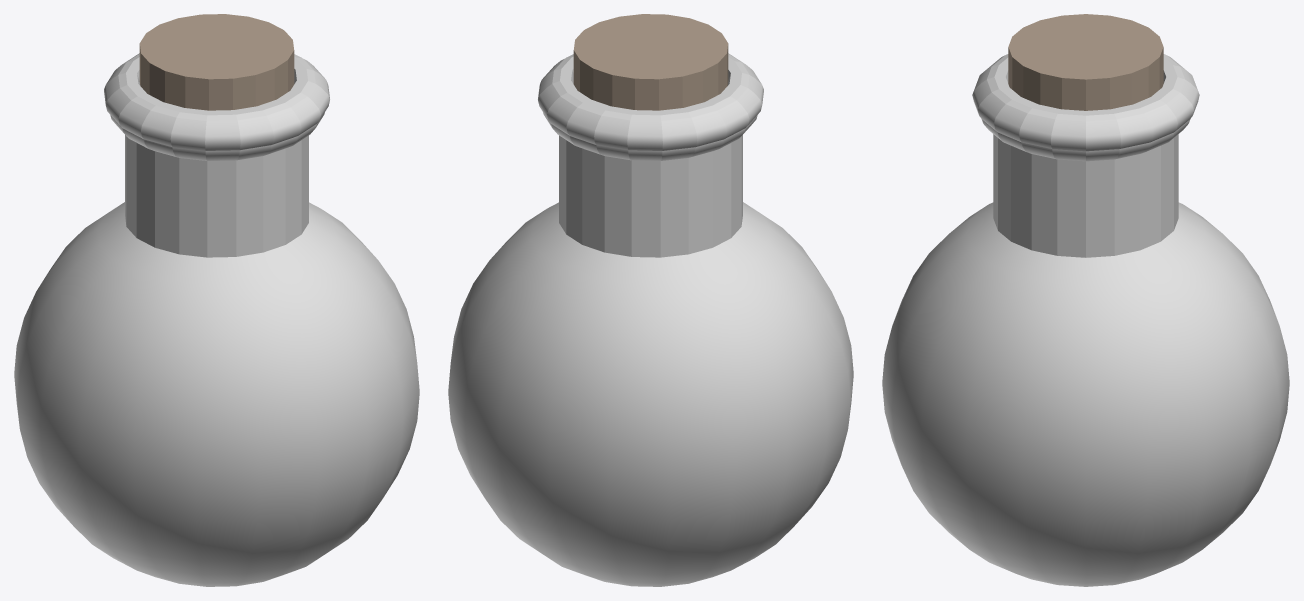
The model's file is Potion_4.fbx.
3 views of the same model, side by side, from view 1: azimuth 30°, elevation 25°; view 2: azimuth 150°, elevation 25°; view 3: azimuth 270°, elevation 25° (orthographic).
Parts seen in each view (by area): view 1: Potion4; view 2: Potion4; view 3: Potion4.
Boxes of the visible parts, x1,y1,x2,y2 form: Potion4: [14, 14, 419, 586]; Potion4: [448, 14, 853, 586]; Potion4: [882, 14, 1289, 586].
Bounding box in the file's own units: 57.14 × 79.22 × 57.14.
